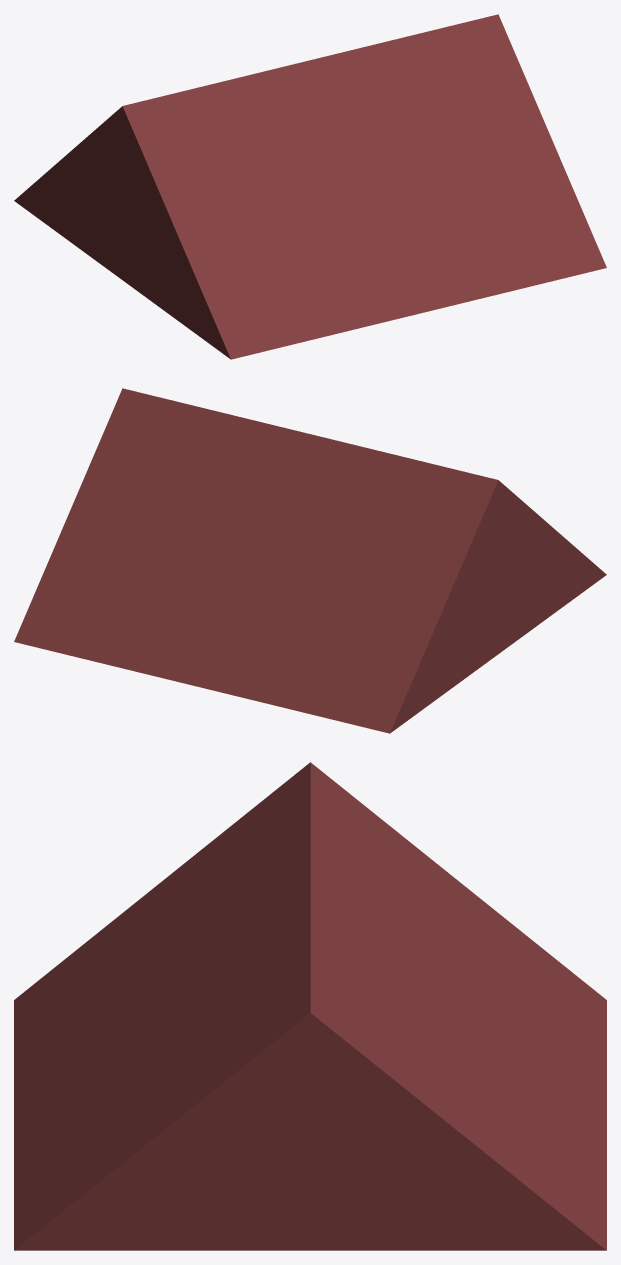
The model's file is MSH_Toit_1.fbx.
3 views of the same model, one above another, from view 1: azimuth 30°, elevation 25°; view 2: azimuth 150°, elevation 25°; view 3: azimuth 270°, elevation 25° (orthographic). The views are drawn at different scales.
Parts seen in each view (by area): view 1: toit batiment; view 2: toit batiment; view 3: toit batiment.
Boxes of the visible parts, x1,y1,x2,y2 form: toit batiment: (14, 14, 606, 359); toit batiment: (14, 388, 606, 733); toit batiment: (14, 762, 606, 1250).
Size of the model in its own units: 5.8 by 2.57 by 5.8.
